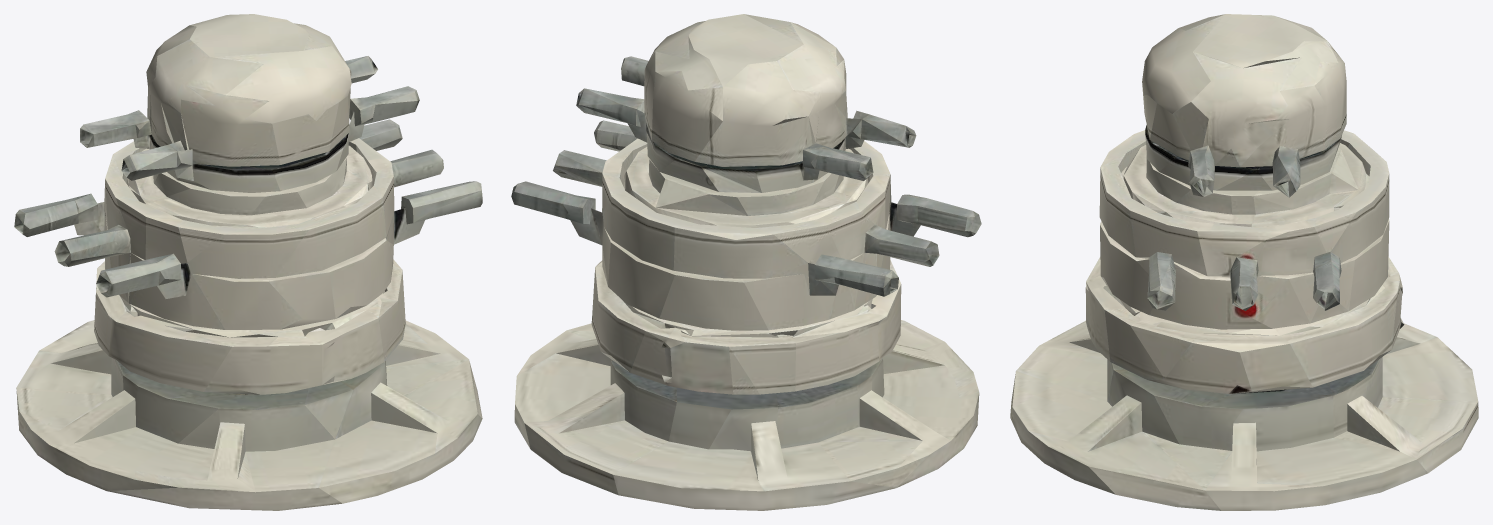
File: interceptor-turret.glb
3 views of the same model, side by side, from view 1: azimuth 30°, elevation 25°; view 2: azimuth 150°, elevation 25°; view 3: azimuth 270°, elevation 25° (orthographic).
Bounding box in the file's own units: 1.89 × 1.67 × 1.9.
Materials: 1 (1 with a texture image).
